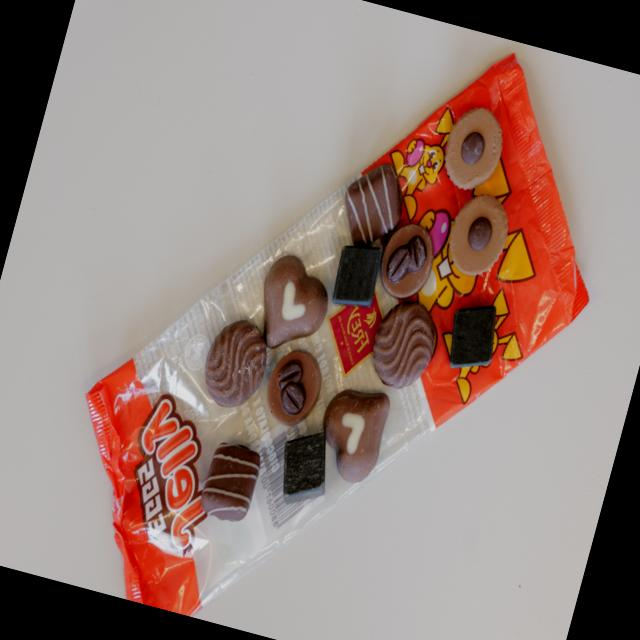Arabia: (372, 217, 441, 304), (259, 344, 328, 429)
Noblesse: (436, 100, 512, 198), (440, 188, 516, 281)
Noir_authentique: (362, 292, 444, 394), (197, 314, 274, 413)
Passion_au_lait: (306, 378, 398, 490), (247, 251, 338, 359)
Stracciatella: (333, 154, 412, 254), (196, 435, 264, 524)
